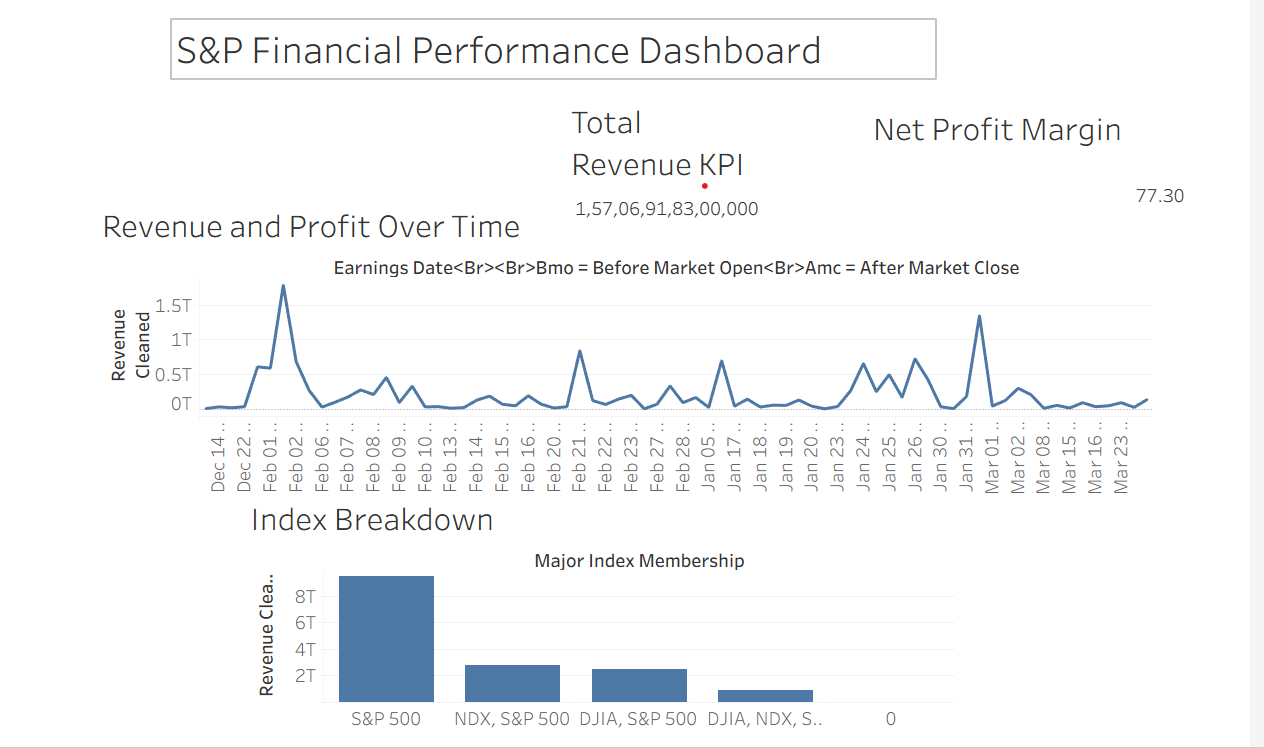

The page's visual inventory and layout, read from the dashboard file:
{"tool":"tableau","page":{"name":"S&P Financial Performance Dashboard","canvas":[1000,1000],"units":"permille","ordinal":0},"visuals":[{"type":"title","box":[137.6,26.8,610.4,77.6]},{"type":"worksheet","title":"Total Revenue KPI","mark":"Text","box":[453.6,128.5,288.8,194.1]},{"type":"worksheet","title":"Net Profit Margin","mark":"Text","box":[695.2,137.9,255.2,168.7]},{"type":"worksheet","title":"Revenue and Profit Over Time","mark":"Line","rows":["revenue_cleaned"],"cols":["earnings_date<br><br>bmo_=_before_market_open<br>amc_=_after"],"box":[78.4,267.7,844,396.2]},{"type":"worksheet","title":"Index Breakdown","mark":"Bar","rows":["revenue_cleaned"],"cols":["major_index_membership"],"box":[196.8,660,567.2,333.3]}]}

Visuals, with their boxes on the dashboard's canvas, which has no fixed pixel size, in thousandths of its width and height (x1, y1, x2, y2). These are canvas units, not pixel positions in the 1264x748 screenshot, which may show the page scaled, cropped or inside an application window:
title: rect(138, 27, 748, 104)
"Total Revenue KPI" worksheet (Text marks): rect(454, 128, 742, 323)
"Net Profit Margin" worksheet (Text marks): rect(695, 138, 950, 307)
"Revenue and Profit Over Time" worksheet (Line marks): rect(78, 268, 922, 664)
"Index Breakdown" worksheet (Bar marks): rect(197, 660, 764, 993)
